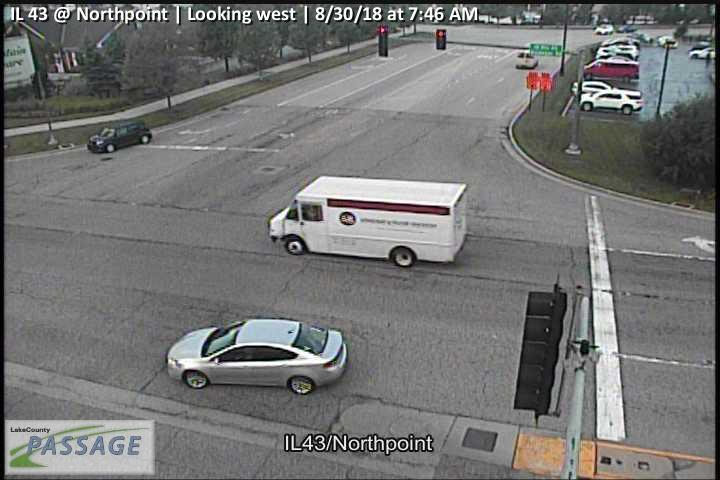SUV: (86, 120, 152, 154), (580, 89, 644, 115), (583, 56, 640, 81), (572, 80, 620, 98)
Sedan: (166, 317, 348, 395), (689, 48, 715, 59), (657, 36, 678, 48)
Truck: (267, 174, 469, 267)
